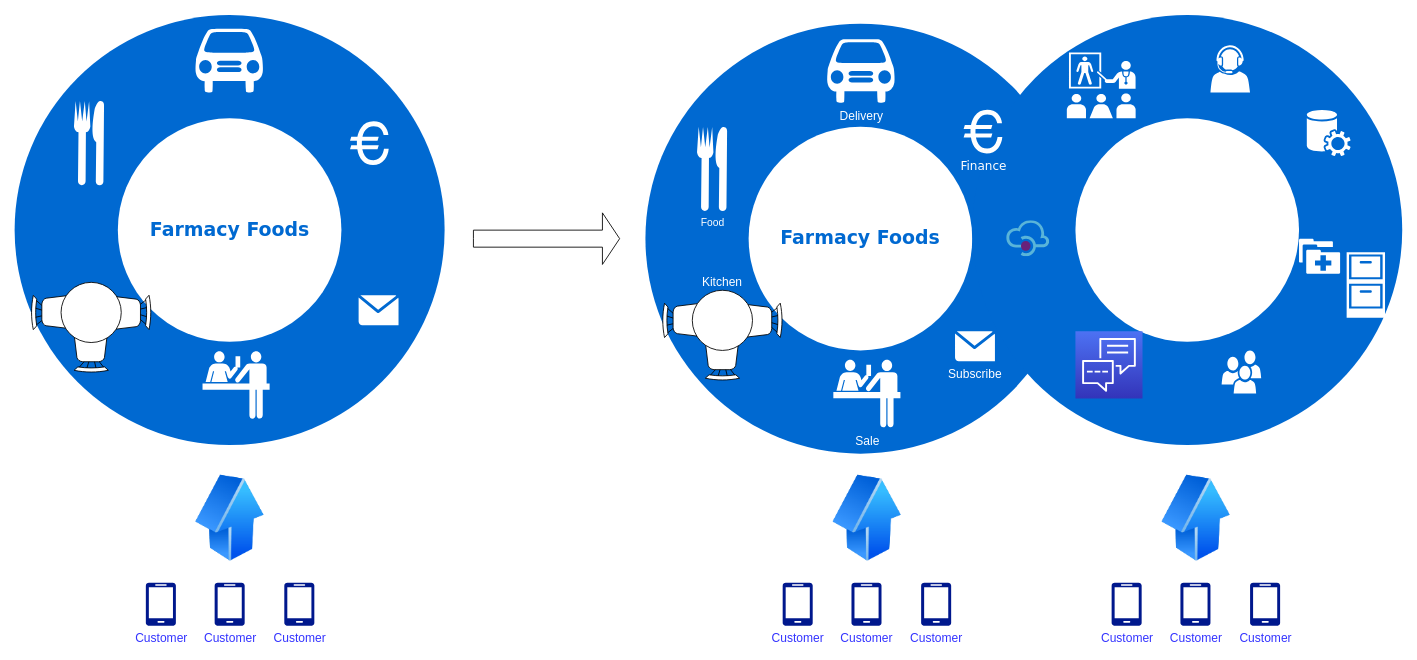
Image size: 1417x660. Some labels were removed from this diagram. The shapes that lost their labels are listed below. From the top down, each one's centre as x and y in pixels, then its label:
At point (1100, 85): "Education".
At point (1230, 68): "Dieticians".
At point (1328, 132): "Analytics".
At point (1027, 238): "Integration".
At point (1187, 229): "Farmacy Family".
At point (1342, 277): "Clinic".
At point (1109, 364): "Engagement".
At point (1241, 371): "Community".
